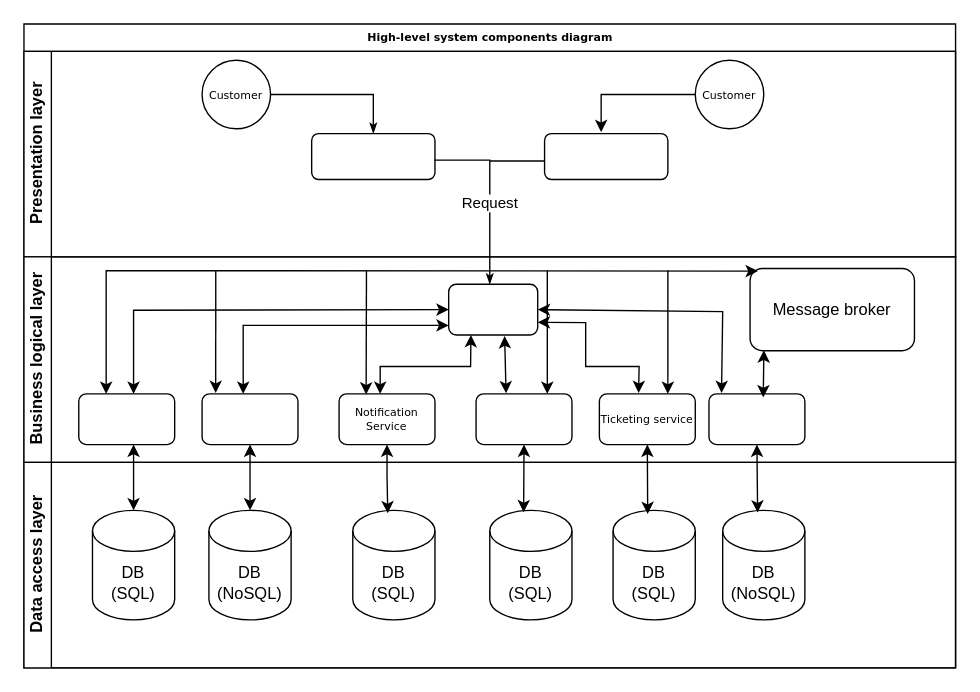
Image size: 980x692. Some labels were removed from this diagram. The centre of each missing label's shape, as x and y in pixels:
"API Gateway" goes at pixel 492 309.
"Cart service" goes at pixel 756 419.
"Customer interface (web app, mob app)" goes at pixel 372 155.
"Event Service" goes at pixel 523 419.
"Identity Service" goes at pixel 126 419.
"Managment interface (web app, mob app)" goes at pixel 605 155.
"Payment Service" goes at pixel 249 419.
